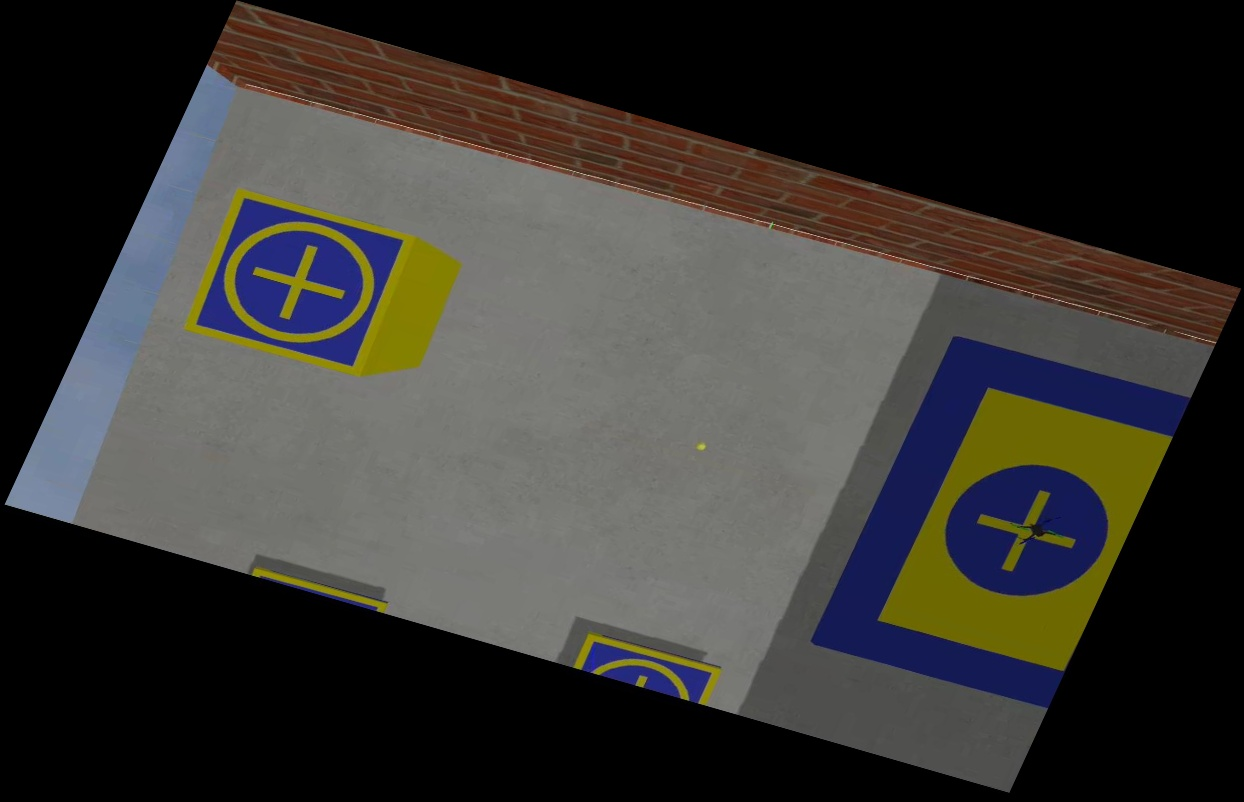large_base: (806, 330, 1193, 714)
small_base: (168, 182, 429, 383), (572, 630, 725, 709)
